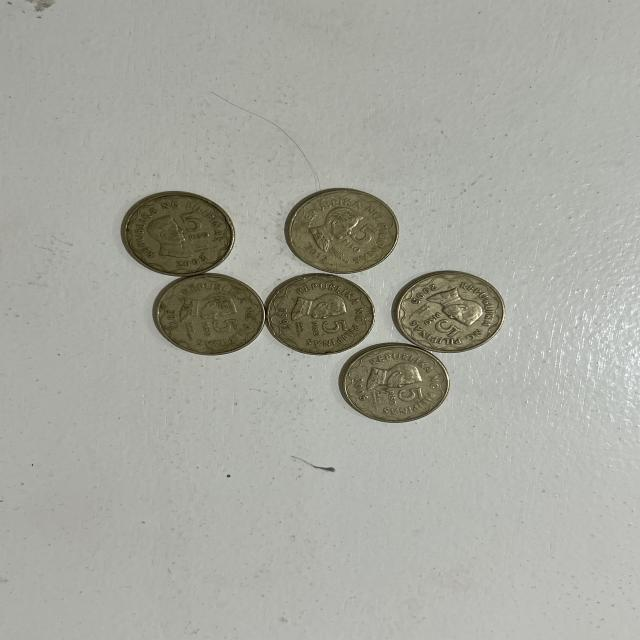5_Old_Front: (420, 310, 465, 344), (170, 209, 213, 244), (382, 382, 430, 410), (303, 319, 352, 344), (342, 224, 375, 254), (198, 315, 239, 339)
